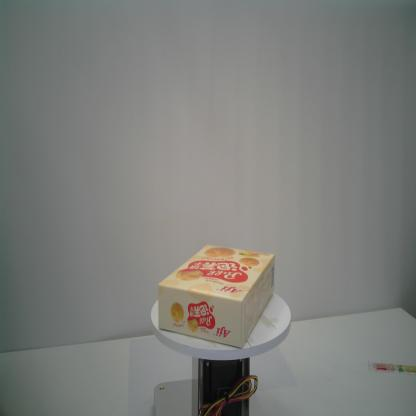Dessert: (157, 244, 276, 350)
